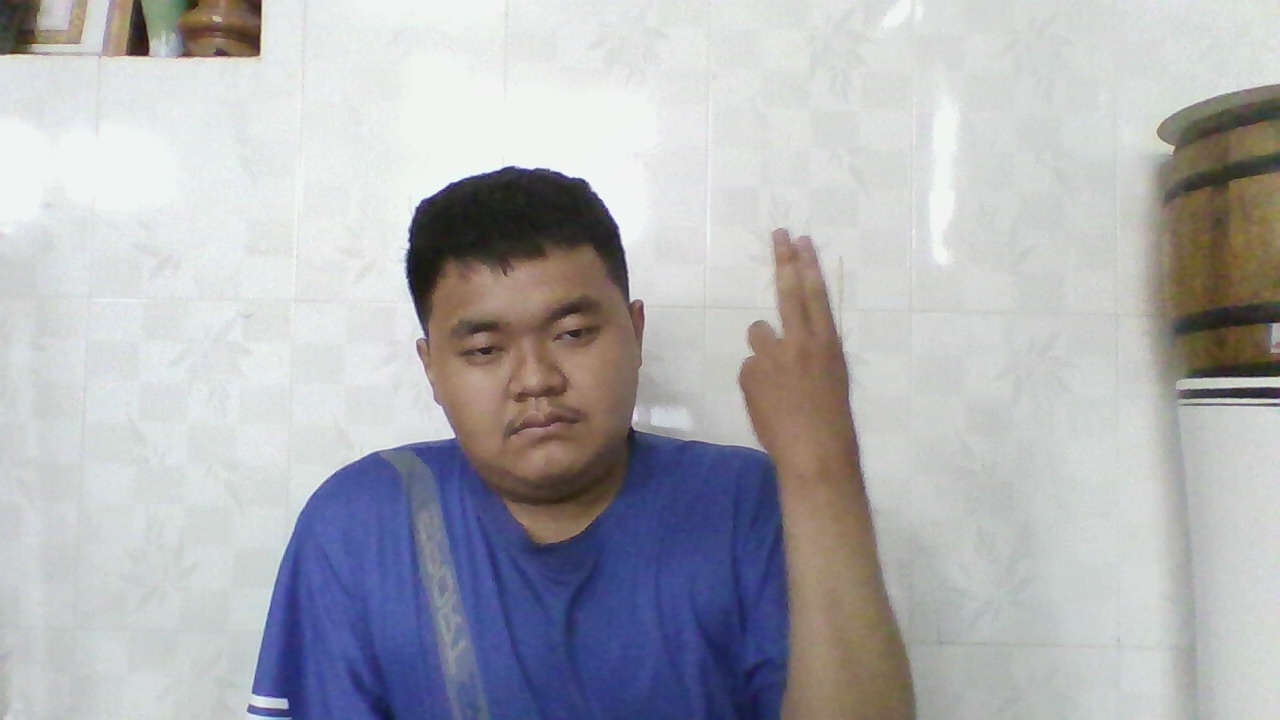U: (732, 219, 855, 472)
